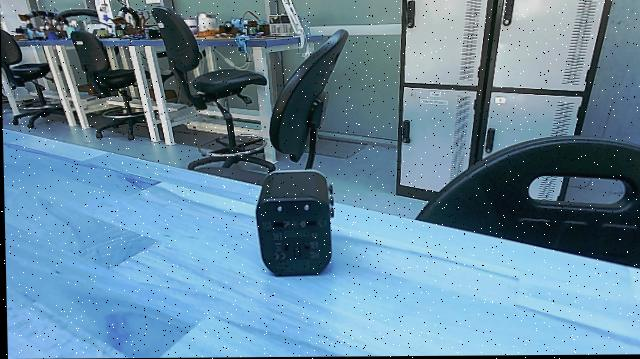adapter: (251, 167, 347, 284)
